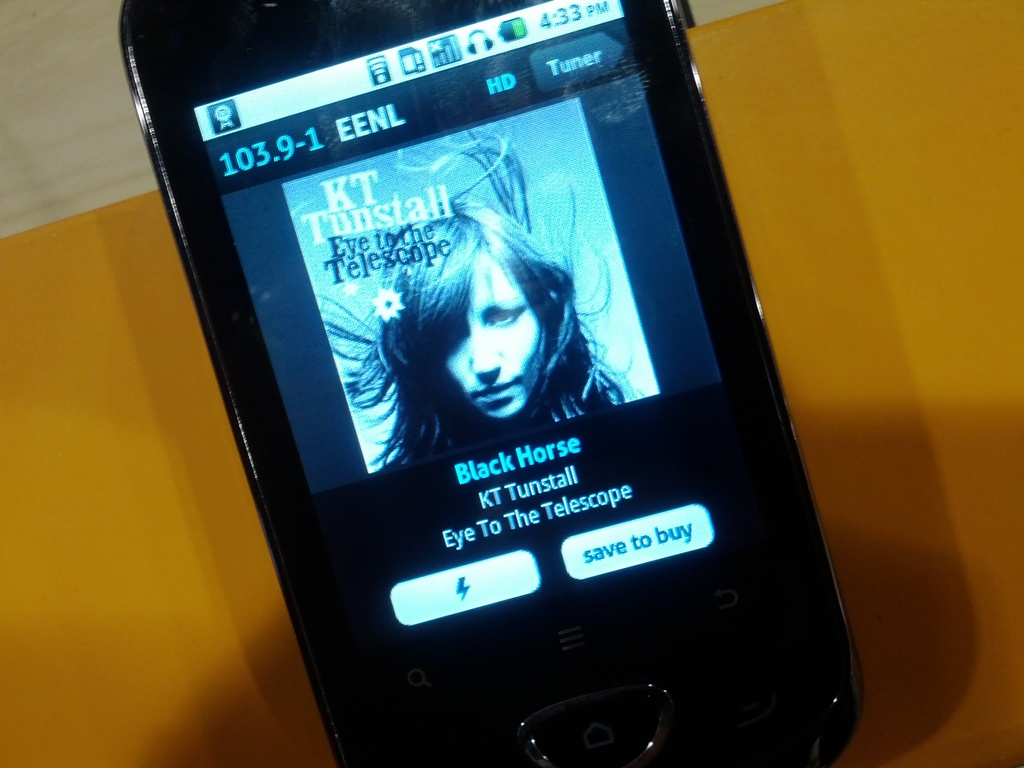Mobile-phone: (120, 1, 872, 762)
